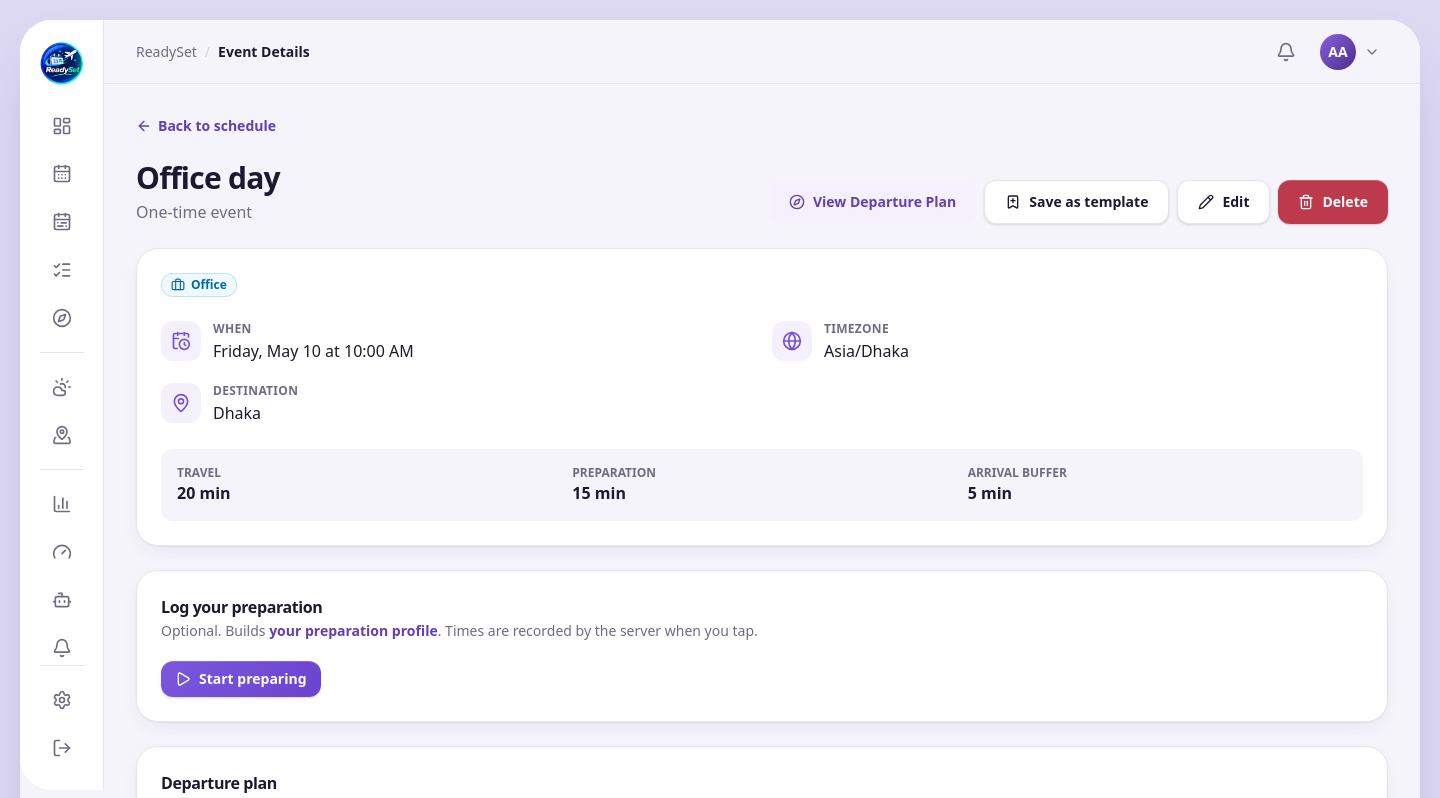
tap-to-log panel on Event Details › shows the server error for an invalid action and stays usable
Click the button "Start preparing".
click(241, 679)  # box [161,661,320,697]
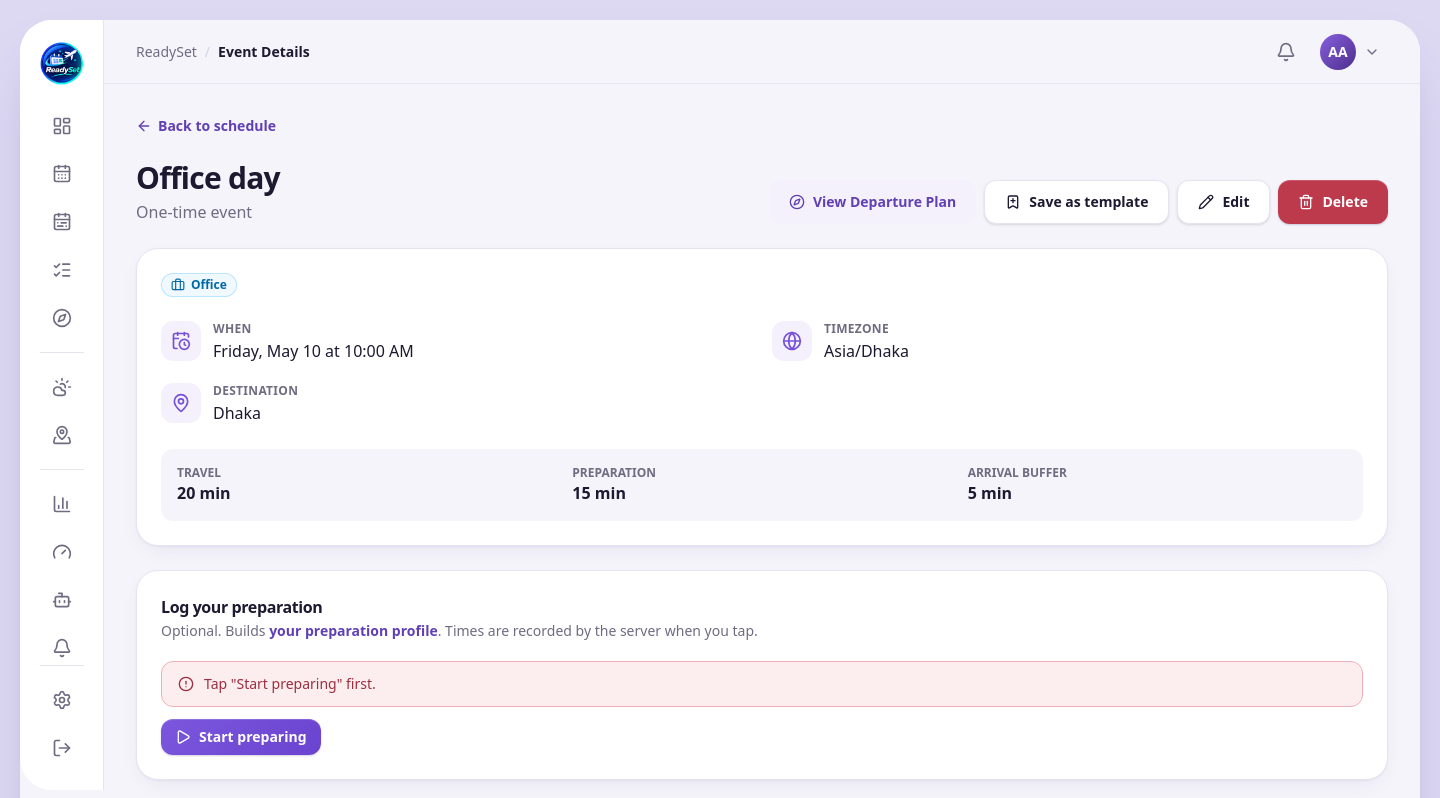
Result: the message shows "Start preparing" at [204,674,376,693]
